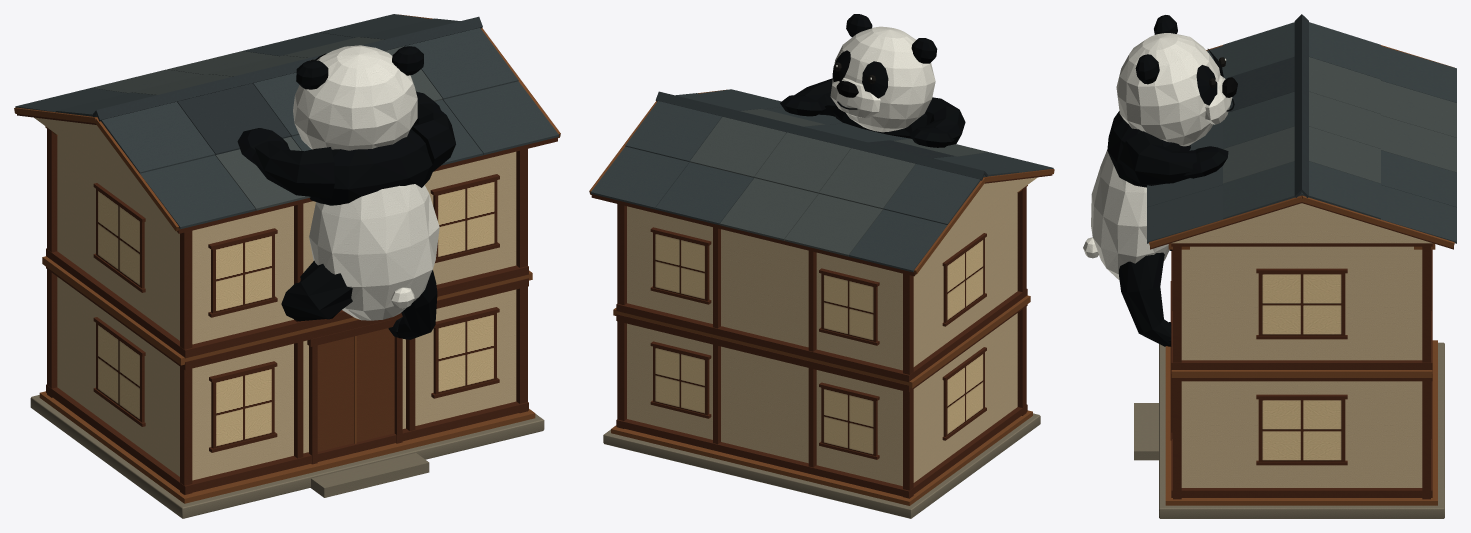
Rendered from panda_ancient_house.glb.
3 renders of one model, left to right at view 1: azimuth 30°, elevation 25°; view 2: azimuth 150°, elevation 25°; view 3: azimuth 270°, elevation 25°, orthographic. The views are drawn at different scales.
Parts seen in each view (by area): view 1: House_TiledRoof, House_Shell, House_PaperWindows, House_TimberBeams, Panda_WhiteTorso, House_TimberPosts, House_Entrance, Panda_Head, House_Base, Panda_ForearmsAndPaws, House_BaseLip, Panda_ShoulderBand (+5 smaller); view 2: House_Shell, House_TiledRoof, House_PaperWindows, House_TimberBeams, House_TimberPosts, House_Base, Panda_Head, House_BaseLip, Panda_ForearmsAndPaws, House_FloorCornice, Panda_Muzzle, Panda_BlackEyePatches (+2 smaller); view 3: House_TiledRoof, House_Shell, House_PaperWindows, House_TimberBeams, Panda_Head, House_Base, Panda_WhiteTorso, House_TimberPosts, House_BaseLip, Panda_ForearmsAndPaws, Panda_LowLeg, House_FloorCornice (+5 smaller).
Boxes of the visible parts, <box> form: House_TiledRoof: <box>14,14,560,233</box>; House_Shell: <box>57,135,516,480</box>; House_PaperWindows: <box>93,174,499,452</box>; House_TimberBeams: <box>46,248,528,494</box>; Panda_WhiteTorso: <box>309,184,439,320</box>; House_TimberPosts: <box>47,127,527,494</box>; House_Entrance: <box>307,317,402,464</box>; Panda_Head: <box>293,45,417,150</box>; House_Base: <box>30,395,544,518</box>; Panda_ForearmsAndPaws: <box>237,91,455,198</box>; House_BaseLip: <box>39,391,535,503</box>; Panda_ShoulderBand: <box>310,129,432,205</box>; House_Shell: <box>627,192,1017,486</box>; House_TiledRoof: <box>589,89,1054,276</box>; House_PaperWindows: <box>650,227,986,459</box>; House_TimberBeams: <box>616,289,1027,497</box>; House_TimberPosts: <box>617,186,1026,498</box>; House_Base: <box>603,413,1040,518</box>; Panda_Head: <box>832,26,935,132</box>; House_BaseLip: <box>611,410,1032,505</box>; Panda_ForearmsAndPaws: <box>780,78,965,147</box>; House_FloorCornice: <box>613,295,1030,388</box>; Panda_Muzzle: <box>830,78,880,117</box>; Panda_BlackEyePatches: <box>832,50,888,98</box>; House_TiledRoof: <box>1147,14,1456,249</box>; House_Shell: <box>1181,246,1422,487</box>; House_PaperWindows: <box>1256,268,1347,465</box>; House_TimberBeams: <box>1171,243,1432,497</box>; Panda_Head: <box>1116,33,1220,146</box>; House_Base: <box>1159,342,1444,518</box>; Panda_WhiteTorso: <box>1091,150,1169,280</box>; House_TimberPosts: <box>1172,246,1431,499</box>; House_BaseLip: <box>1165,340,1437,505</box>; Panda_ForearmsAndPaws: <box>1119,131,1228,185</box>; Panda_LowLeg: <box>1119,252,1171,346</box>; House_FloorCornice: <box>1171,370,1432,377</box>.
Size of the model in its own units: 8.16 by 8.59 by 7.32.
13 materials, 13 textured.
